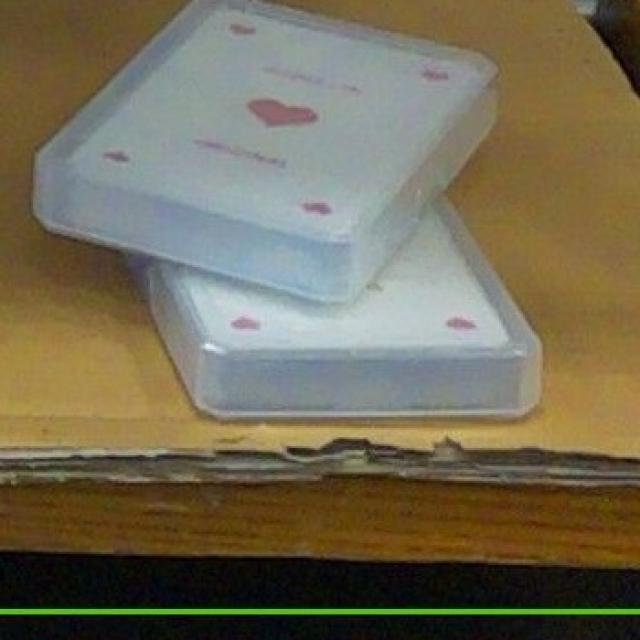Jasskarte: (35, 0, 496, 300), (135, 199, 539, 417)
